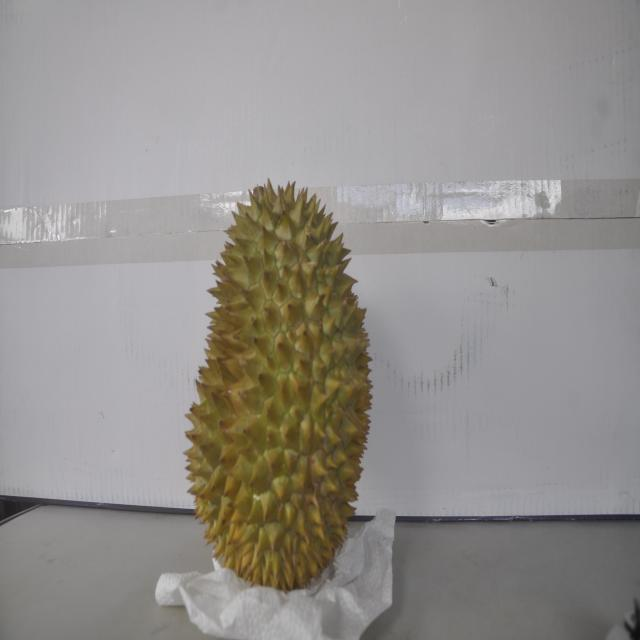mature: (182, 180, 374, 588)
